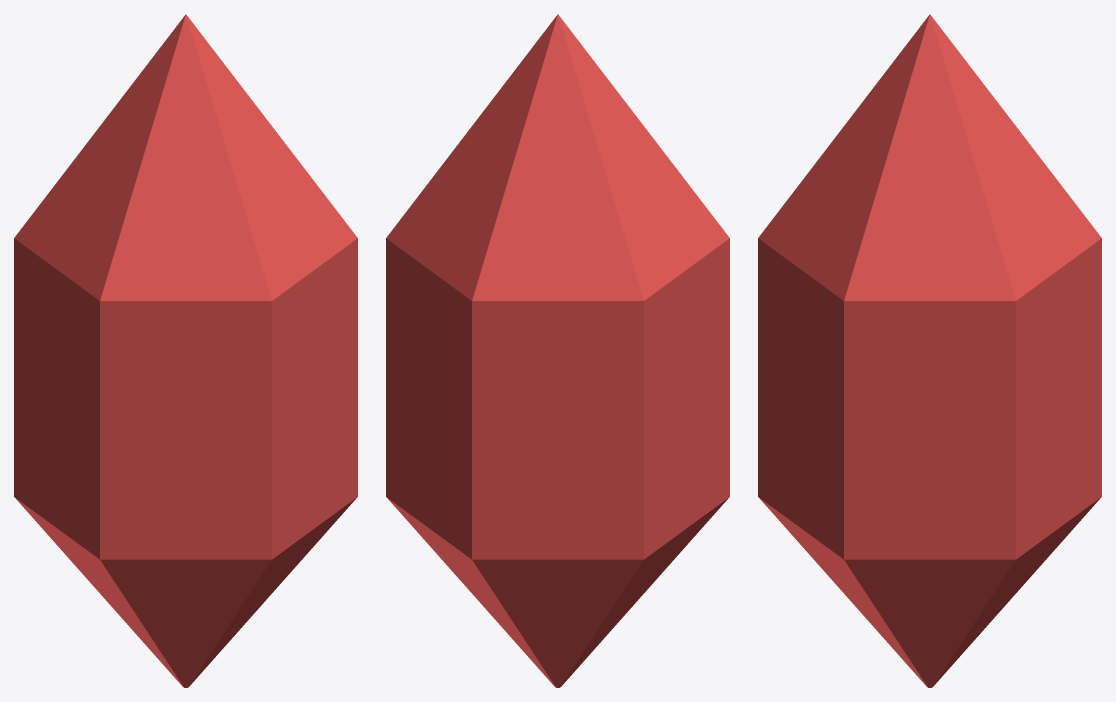
The model's file is stone.fbx.
3 renders of one model, left to right at view 1: azimuth 30°, elevation 25°; view 2: azimuth 150°, elevation 25°; view 3: azimuth 270°, elevation 25°, orthographic.
Parts seen in each view (by area): view 1: Cone; view 2: Cone; view 3: Cone.
Part boxes in pixels (x1,y1,x2,y2): Cone: (14,14,357,687); Cone: (386,14,729,687); Cone: (758,14,1101,687).
Size of the model in its own units: 241 by 600 by 278.
